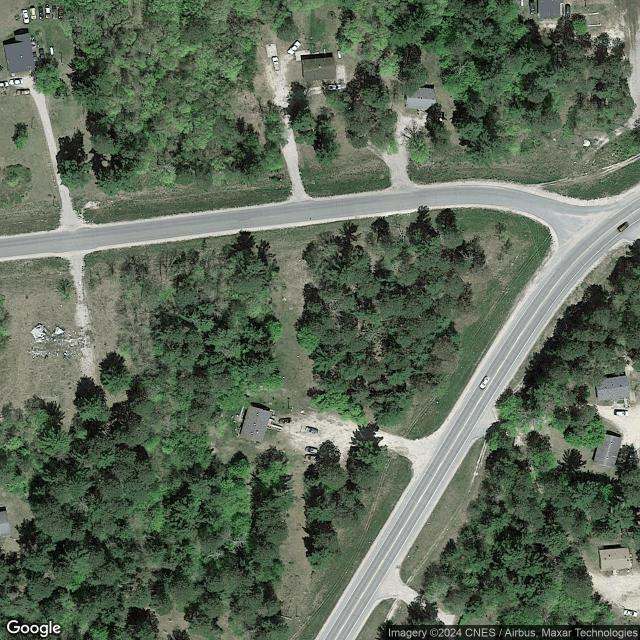Propane: (49, 46, 54, 56), (337, 49, 342, 59), (520, 0, 523, 7)
